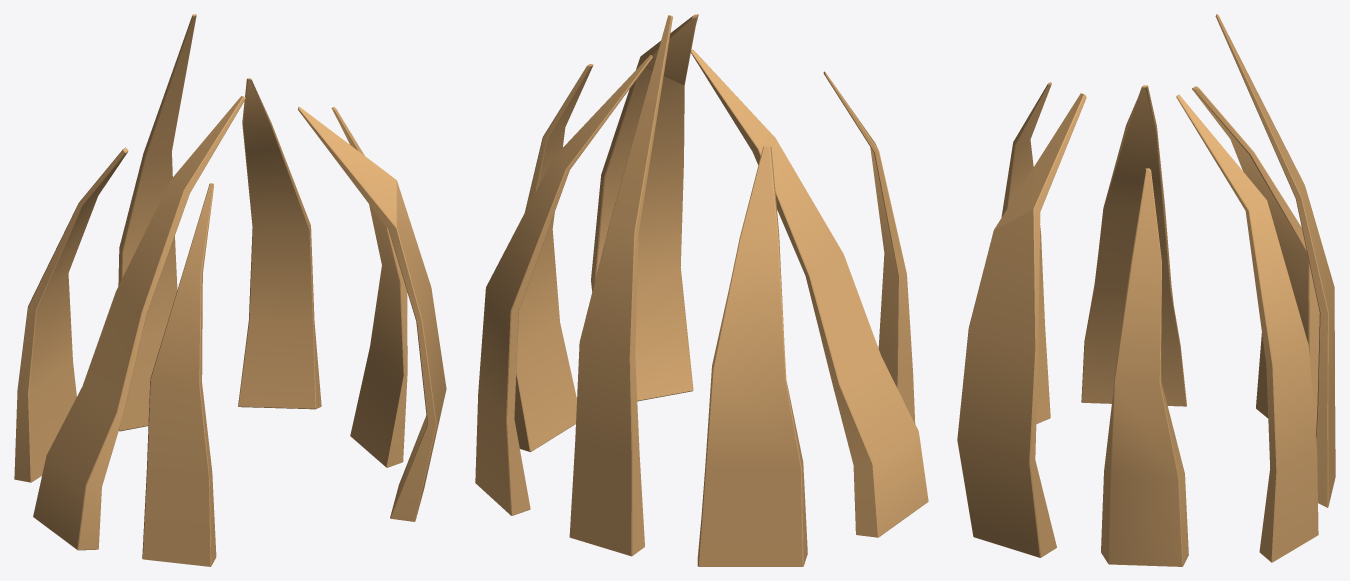
Rendered from poteauxBase_MOD_v01.fbx.
3 renders of one model, left to right at view 1: azimuth 30°, elevation 25°; view 2: azimuth 150°, elevation 25°; view 3: azimuth 270°, elevation 25°, orthographic. The views are drawn at different scales.
Visible parts, largest first — view 1: Plane.005, Plane.001, Plane.003, Plane.004, Plane.006, Plane.002, Plane.007; view 2: Plane.004, Plane.005, Plane.002, Plane.006, Plane.001, Plane.007, Plane.003; view 3: Plane.006, Plane.007, Plane.001, Plane.005, Plane.002, Plane.004, Plane.003.
Part boxes in pixels (left/top/right/bottom): Plane.005: left=33, top=96, right=245, bottom=550; Plane.001: left=238, top=78, right=321, bottom=409; Plane.003: left=142, top=183, right=216, bottom=566; Plane.004: left=14, top=147, right=128, bottom=482; Plane.006: left=298, top=106, right=446, bottom=521; Plane.002: left=118, top=14, right=196, bottom=431; Plane.007: left=331, top=107, right=407, bottom=467; Plane.004: left=697, top=146, right=807, bottom=566; Plane.005: left=690, top=49, right=928, bottom=537; Plane.002: left=569, top=15, right=672, bottom=556; Plane.006: left=591, top=14, right=698, bottom=401; Plane.001: left=475, top=55, right=652, bottom=515; Plane.007: left=514, top=64, right=593, bottom=452; Plane.003: left=823, top=71, right=915, bottom=423; Plane.006: left=957, top=93, right=1086, bottom=557; Plane.007: left=1101, top=168, right=1188, bottom=566; Plane.001: left=1176, top=94, right=1318, bottom=562; Plane.005: left=1081, top=85, right=1186, bottom=406; Plane.002: left=1215, top=14, right=1335, bottom=507; Plane.004: left=1192, top=86, right=1319, bottom=432; Plane.003: left=1001, top=82, right=1051, bottom=423.
Bounding box in the file's own units: 1116 × 1394 × 1011.
